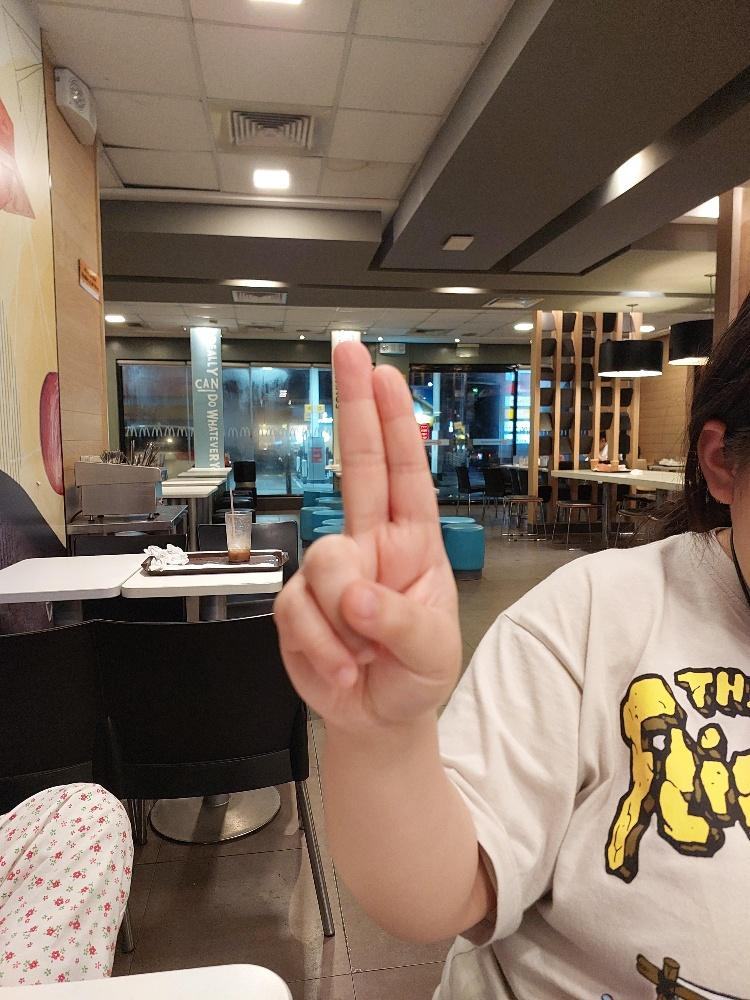u: (269, 337, 464, 737)
